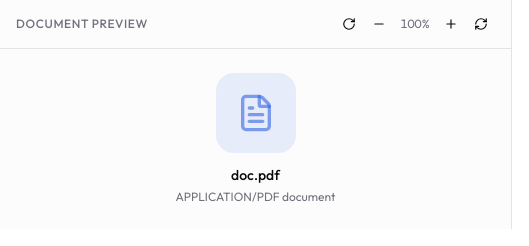
Test: DocumentPreview › zooms out when zoom out button is clicked
The image size is (529, 246).
Click the button titled "zoom out" at [379, 24], box x1=365 y1=10 x2=393 y2=38
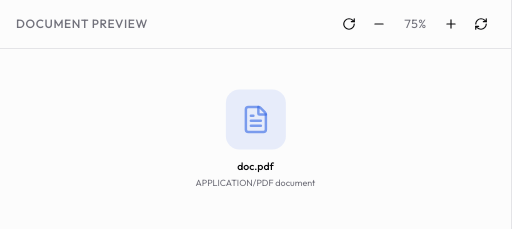
Result: the text "75%" is shown at x1=404 y1=16 x2=426 y2=31
